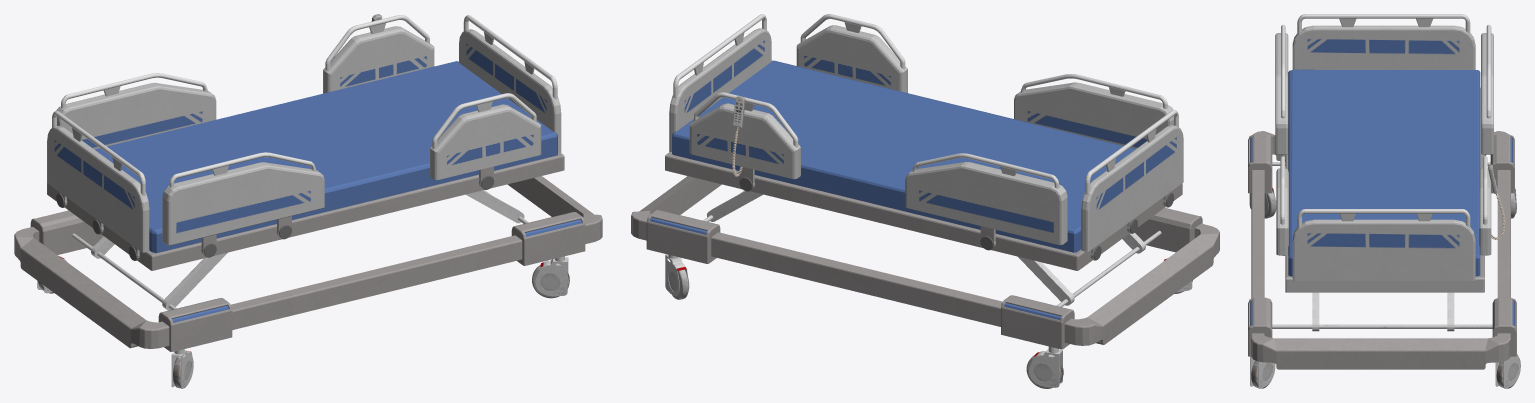
Rendered from 有CC的病床.fbx.
The picture shows the model from 3 angles, left to right: view 1: azimuth 30°, elevation 25°; view 2: azimuth 150°, elevation 25°; view 3: azimuth 270°, elevation 25°; orthographic projection. The views are drawn at different scales.
Visible parts, largest first — view 1: Object, Object.001; view 2: Object, Object.001; view 3: Object, Object.001.
Part boxes in pixels (bbox=[...]): Object: bbox=[14, 14, 602, 388]; Object.001: bbox=[94, 61, 557, 253]; Object: bbox=[631, 14, 1219, 388]; Object.001: bbox=[672, 60, 1135, 252]; Object: bbox=[1248, 14, 1520, 388]; Object.001: bbox=[1288, 69, 1480, 276].
Size of the model in its own units: 214 by 91.47 by 115.
Materials: 2 (2 with a texture image).
